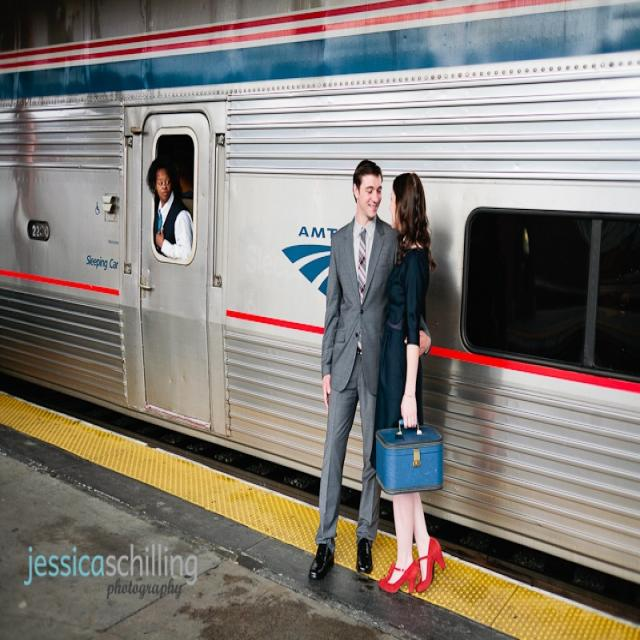body: (307, 159, 433, 581), (373, 170, 447, 594), (144, 155, 194, 262), (164, 148, 196, 229)
